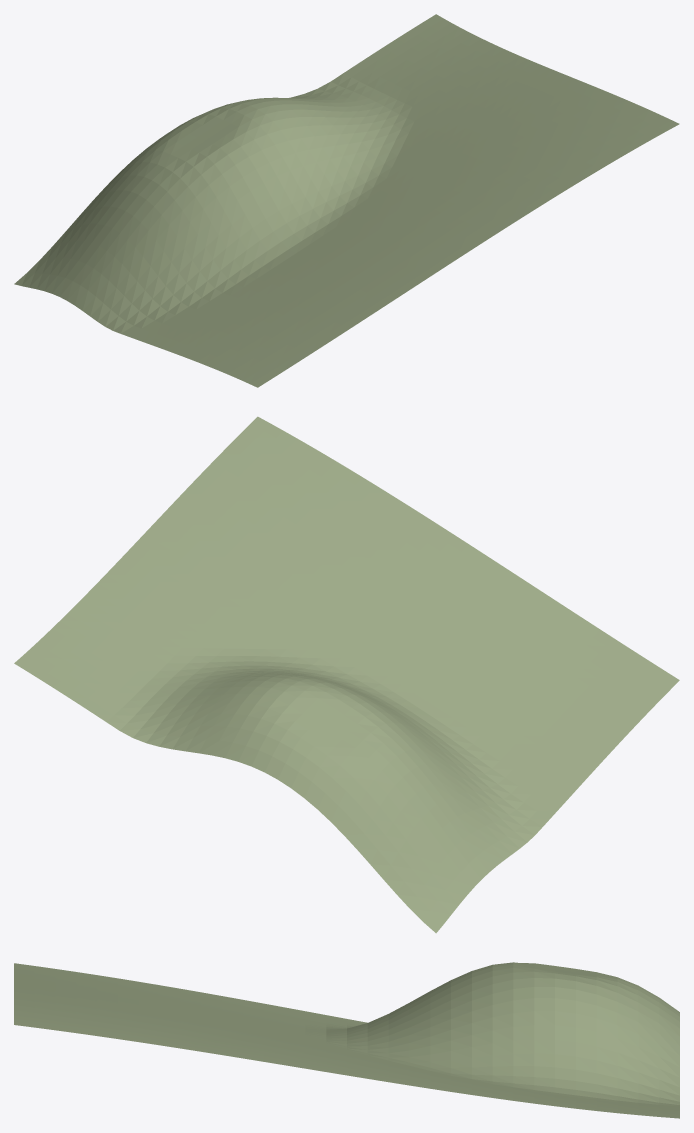
Rendered from expanse-25-16.glb.
3 renders of one model, top to bottom at view 1: azimuth 30°, elevation 25°; view 2: azimuth 150°, elevation 25°; view 3: azimuth 270°, elevation 25°, orthographic. The views are drawn at different scales.
Visible parts, largest first — view 1: expanse-25-16; view 2: expanse-25-16; view 3: expanse-25-16.
Part boxes in pixels (left/top/right/bottom): expanse-25-16: left=14, top=14, right=679, bottom=387; expanse-25-16: left=14, top=416, right=679, bottom=933; expanse-25-16: left=14, top=962, right=679, bottom=1118.
Size of the model in its own units: 256 by 136 by 256.
